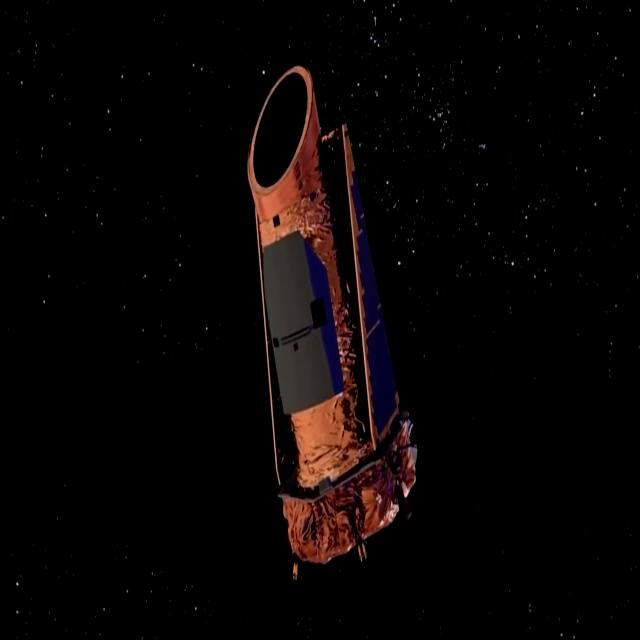satellite: (249, 48, 418, 599)
